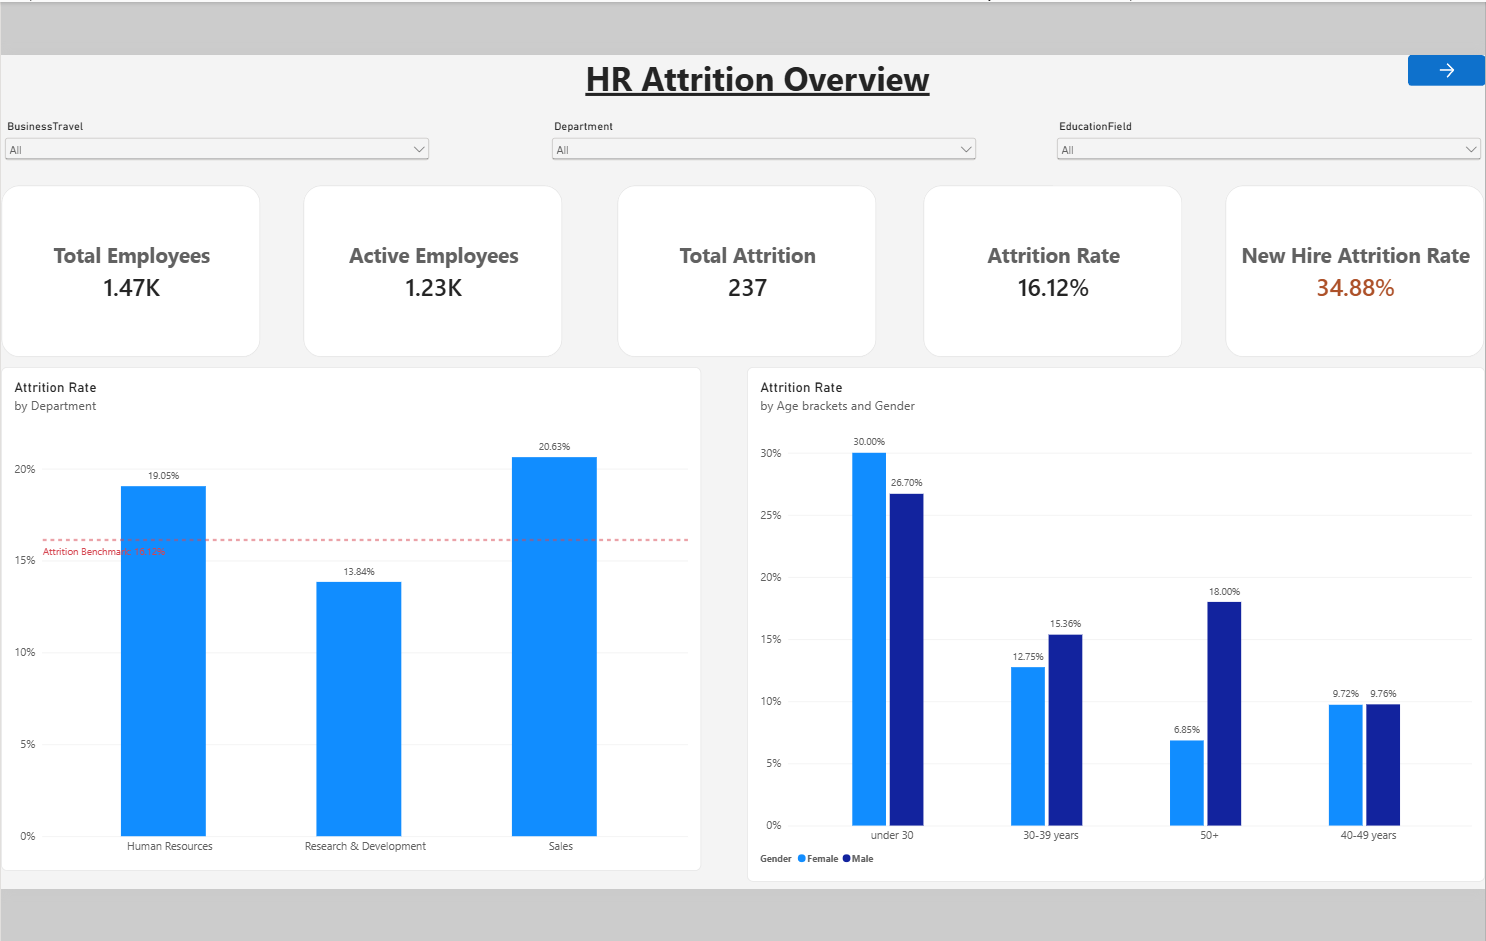

What the dashboard file says about the page in this screenshot:
{"tool":"powerbi","page":{"name":"Overview","canvas":[1920,1080],"ordinal":1},"visuals":[{"type":"textbox","box":[442.5,0,1072.6,84.1],"z":0},{"type":"slicer","fields":{"Values":["Fact_Attrition.BusinessTravel"]},"box":[0,84.1,558.9,58.2],"z":1000},{"type":"slicer","fields":{"Values":["Dim_Department.Department"]},"box":[707.7,84.1,558.9,58.2],"z":2000},{"type":"slicer","fields":{"Values":["Fact_Attrition.EducationField"]},"box":[1361.1,84.1,558.9,58.2],"z":3000},{"type":"cardVisual","fields":{"Data":["_Dax_Measures.Total_Employees"]},"box":[0,168.2,336.4,223.8],"z":4000},{"type":"cardVisual","fields":{"Data":["_Dax_Measures.New Hire Attrition Rate"]},"box":[1583.6,168.2,336.4,223.8],"z":5000},{"type":"cardVisual","fields":{"Data":["_Dax_Measures.Attrition Rate"]},"box":[1192.9,168.2,336.4,223.8],"z":6000},{"type":"cardVisual","fields":{"Data":["_Dax_Measures.Total Attrition"]},"box":[797,168.2,336.4,223.8],"z":7000},{"type":"cardVisual","fields":{"Data":["_Dax_Measures.Active Employees"]},"box":[390.7,168.2,336.4,223.8],"z":8000},{"type":"clusteredColumnChart","fields":{"Category":["Dim_Department.Department","Dim_Job.JobRole"],"Y":["_Dax_Measures.Attrition Rate"]},"box":[0,403.7,905.7,652.1],"z":9000},{"type":"clusteredColumnChart","fields":{"Category":["Fact_Attrition.Age brackets"],"Y":["_Dax_Measures.Attrition Rate"],"Series":["Fact_Attrition.Gender"]},"box":[965.2,403.7,954.8,666.3],"z":11000},{"type":"actionButton","box":[1820.4,0,100,40],"z":11001}]}

Visuals, with their boxes on the page's 1920x1080 design canvas (x1, y1, x2, y2). These are canvas units, not pixel positions in the 1486x941 screenshot, which may show the page scaled, cropped or inside an application window:
textbox: (442, 0, 1515, 84)
slicer - Fact_Attrition.BusinessTravel: (0, 84, 559, 142)
slicer - Dim_Department.Department: (708, 84, 1267, 142)
slicer - Fact_Attrition.EducationField: (1361, 84, 1920, 142)
cardVisual - _Dax_Measures.Total_Employees: (0, 168, 336, 392)
cardVisual - _Dax_Measures.New Hire Attrition Rate: (1584, 168, 1920, 392)
cardVisual - _Dax_Measures.Attrition Rate: (1193, 168, 1529, 392)
cardVisual - _Dax_Measures.Total Attrition: (797, 168, 1133, 392)
cardVisual - _Dax_Measures.Active Employees: (391, 168, 727, 392)
clusteredColumnChart - Dim_Department.Department x Dim_Job.JobRole: (0, 404, 906, 1056)
clusteredColumnChart - Fact_Attrition.Age brackets x _Dax_Measures.Attrition Rate: (965, 404, 1920, 1070)
actionButton: (1820, 0, 1920, 40)
